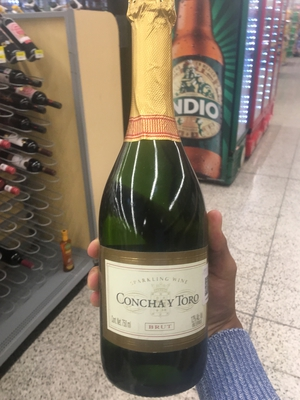brut: (78, 8, 226, 396)
